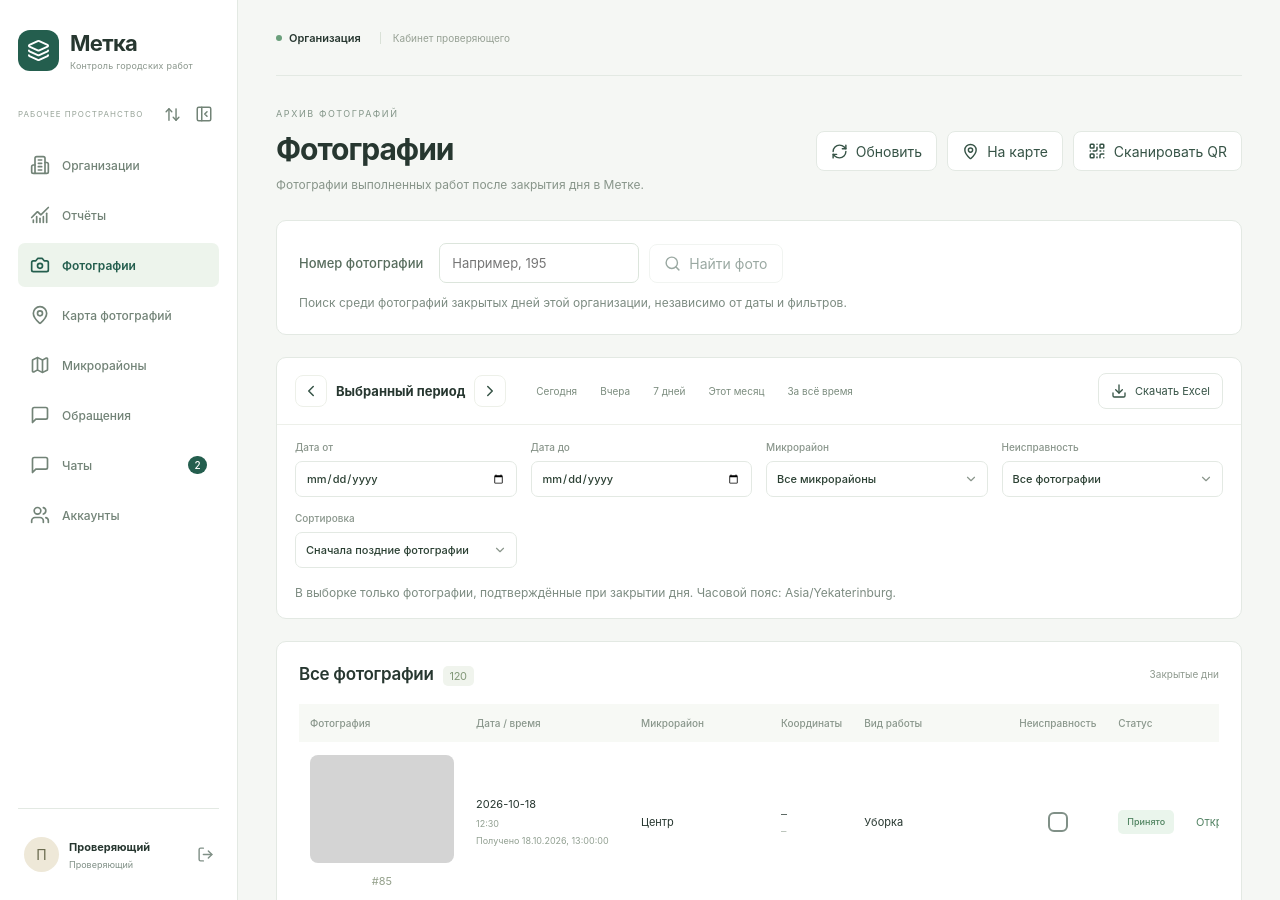
Test: opens the same personal settings sections as the operator and uses independent inspector session endpoints
The width and height of the screenshot is (1280, 900).
(page scrolled)
Click the link with aria-label "Настройки": click(87, 854) [24,837,150,872]
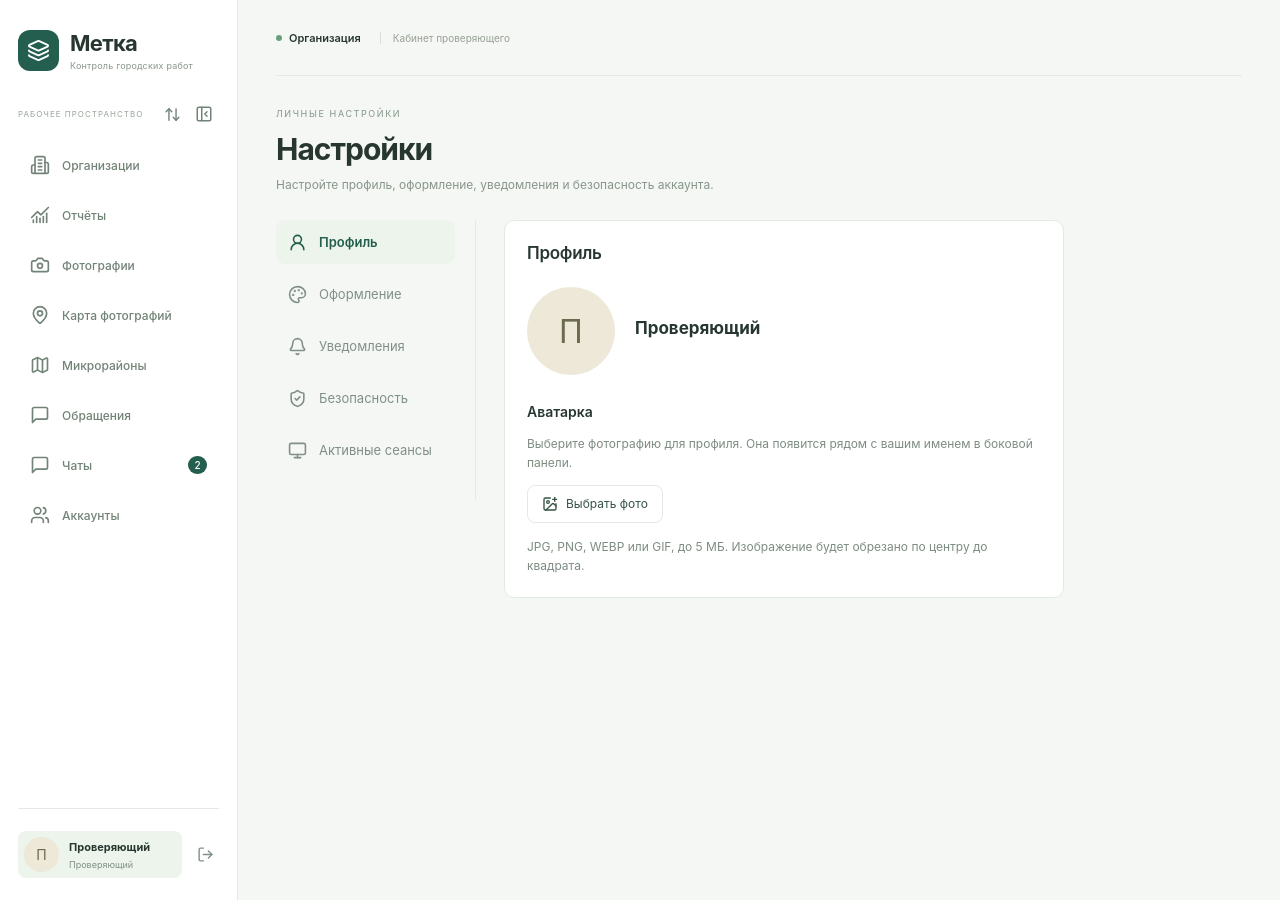
Expected: the form named "Выберите аватарку" is shown, [504,220,1064,598]
Expected: the link with aria-label "Активные сеансы" is shown
Click the link with aria-label "Активные сеансы": click(360, 450) [288,441,432,460]
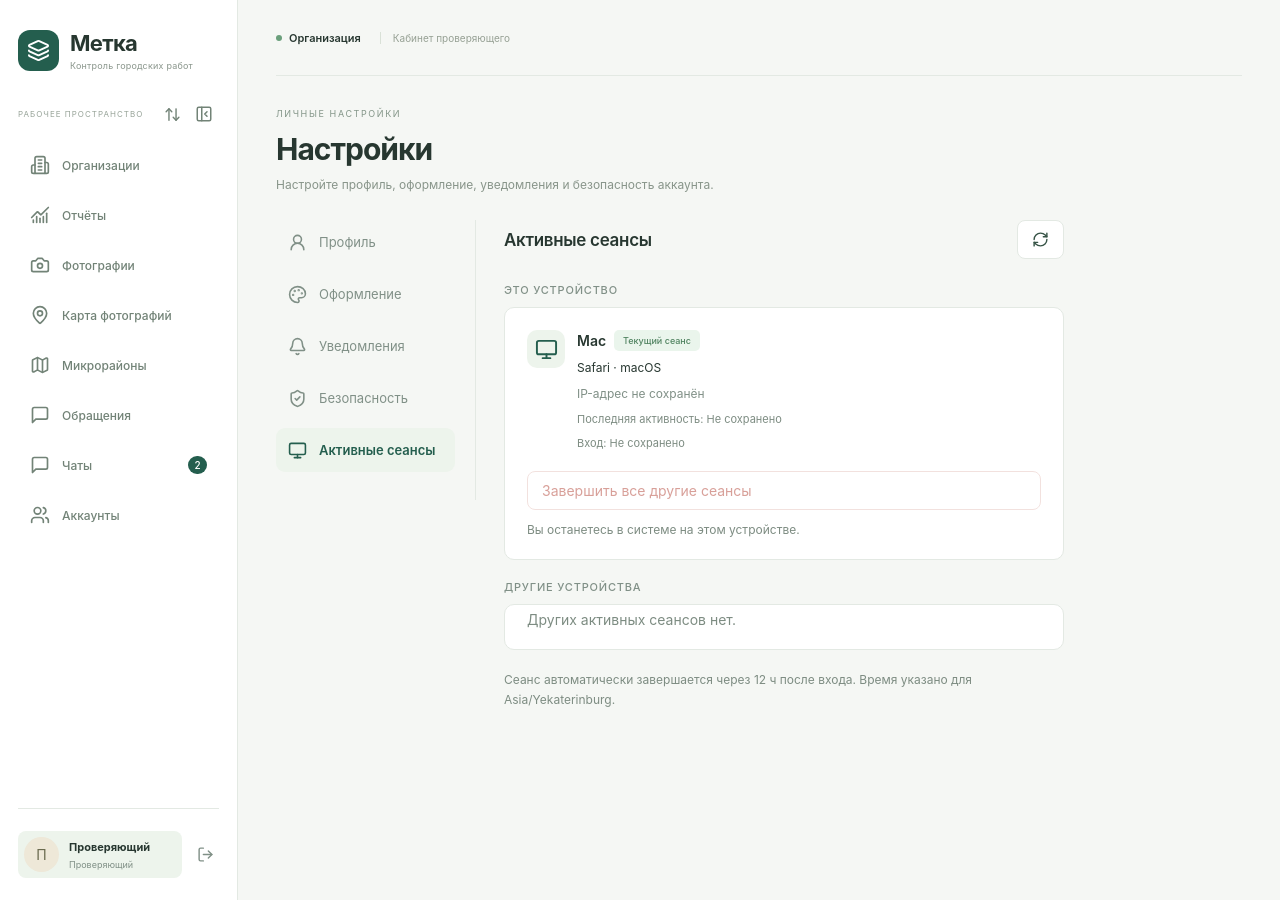
Expected: the text "Текущий сеанс" is shown, [614,330,700,351]
